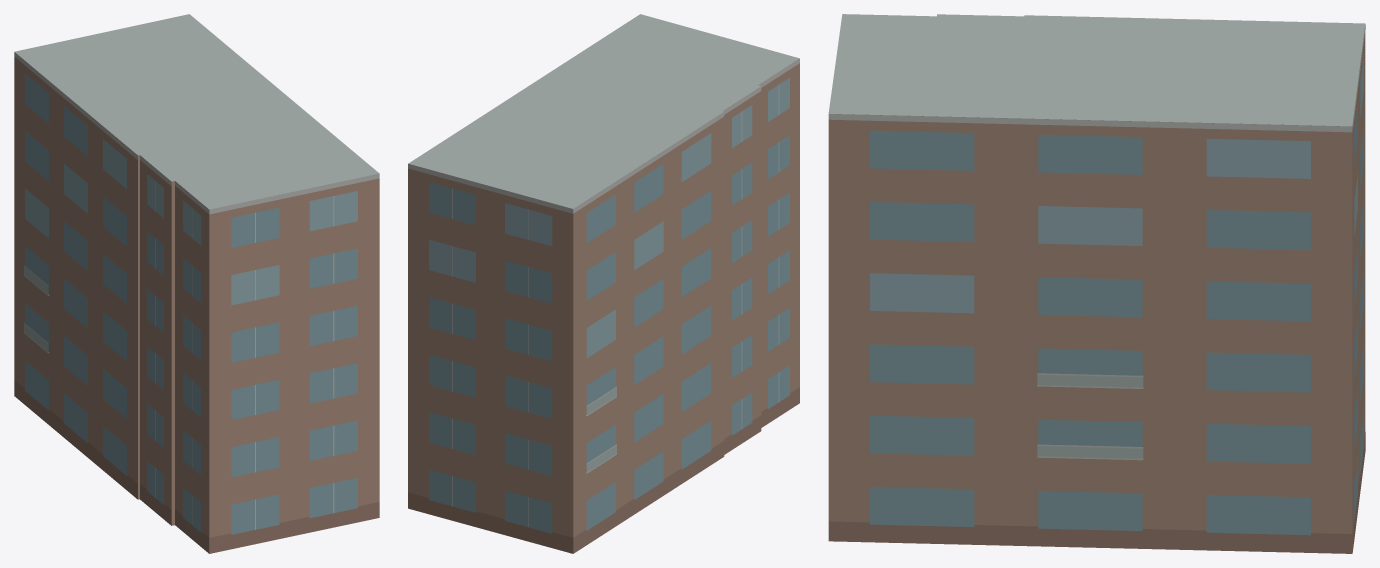
File: survey-upis-33008380.glb
3 views of the same model, side by side, from view 1: azimuth 30°, elevation 25°; view 2: azimuth 150°, elevation 25°; view 3: azimuth 270°, elevation 25° (orthographic). The views are drawn at different scales.
Visible parts, largest first — view 1: survey-upis-33008380.tmp; view 2: survey-upis-33008380.tmp; view 3: survey-upis-33008380.tmp.
Part boxes in pixels (left/top/right/bottom): survey-upis-33008380.tmp: left=14, top=14, right=379, bottom=553; survey-upis-33008380.tmp: left=408, top=14, right=799, bottom=553; survey-upis-33008380.tmp: left=828, top=14, right=1365, bottom=553.
Size of the model in its own units: 9.94 by 17.6 by 20.05.
